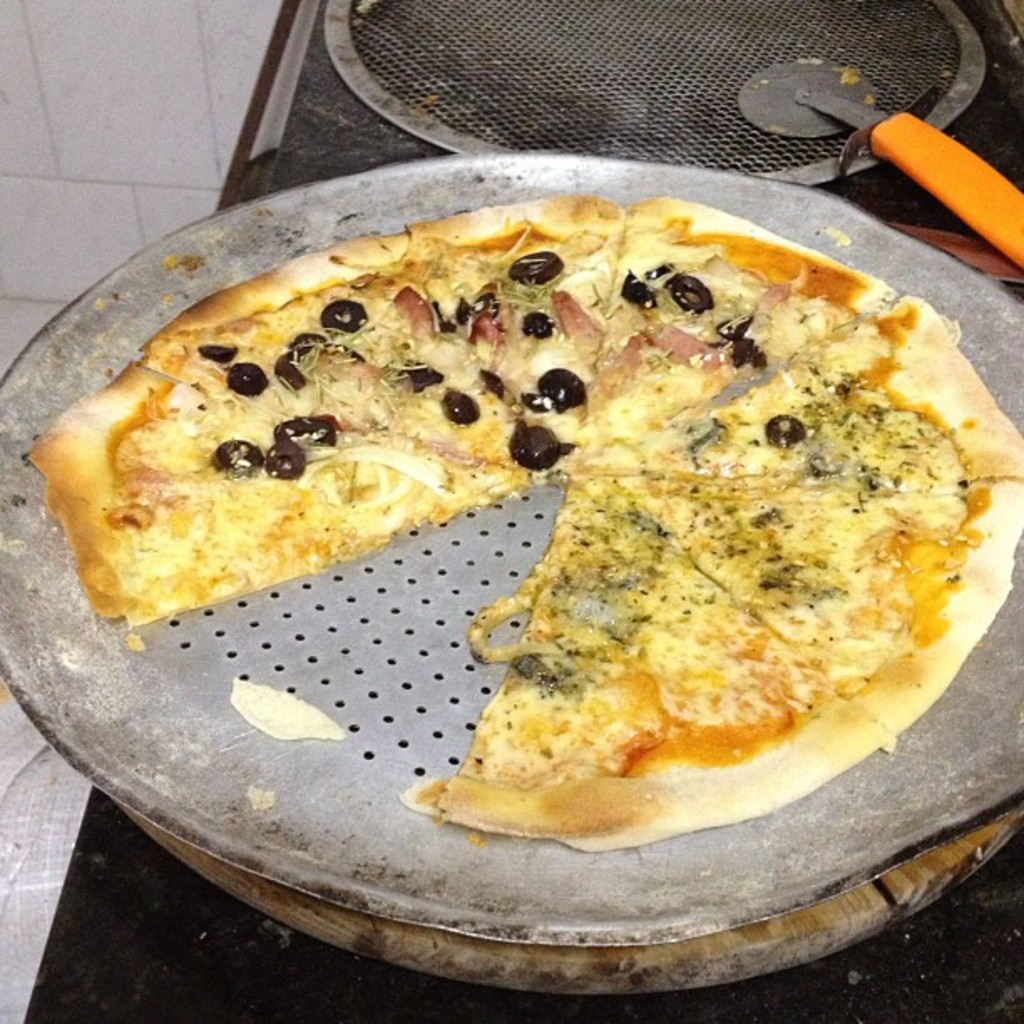Pizza: (61, 266, 982, 762)
